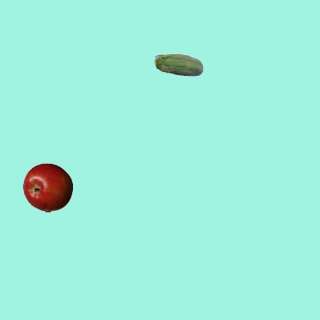Apple Braeburn: (22, 162, 72, 212)
Corn Husk: (153, 41, 203, 91)
